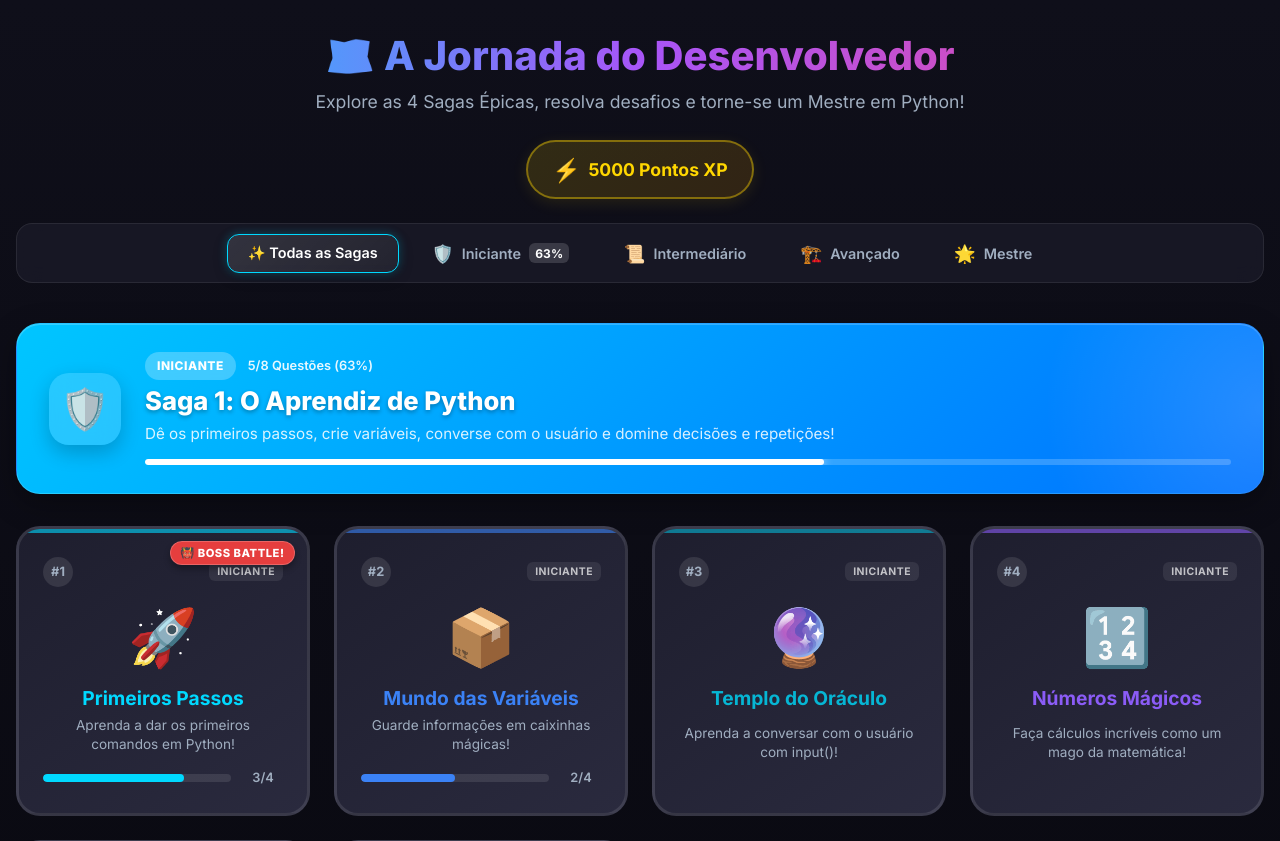
WorldMap Component › filters worlds by selected saga tab
This screenshot has width=1280, height=841.
// Clica na Saga 3 (Arquiteto)
Click the tab with test id "saga-tab-saga_3" at (850, 253), box [779, 232, 921, 274]
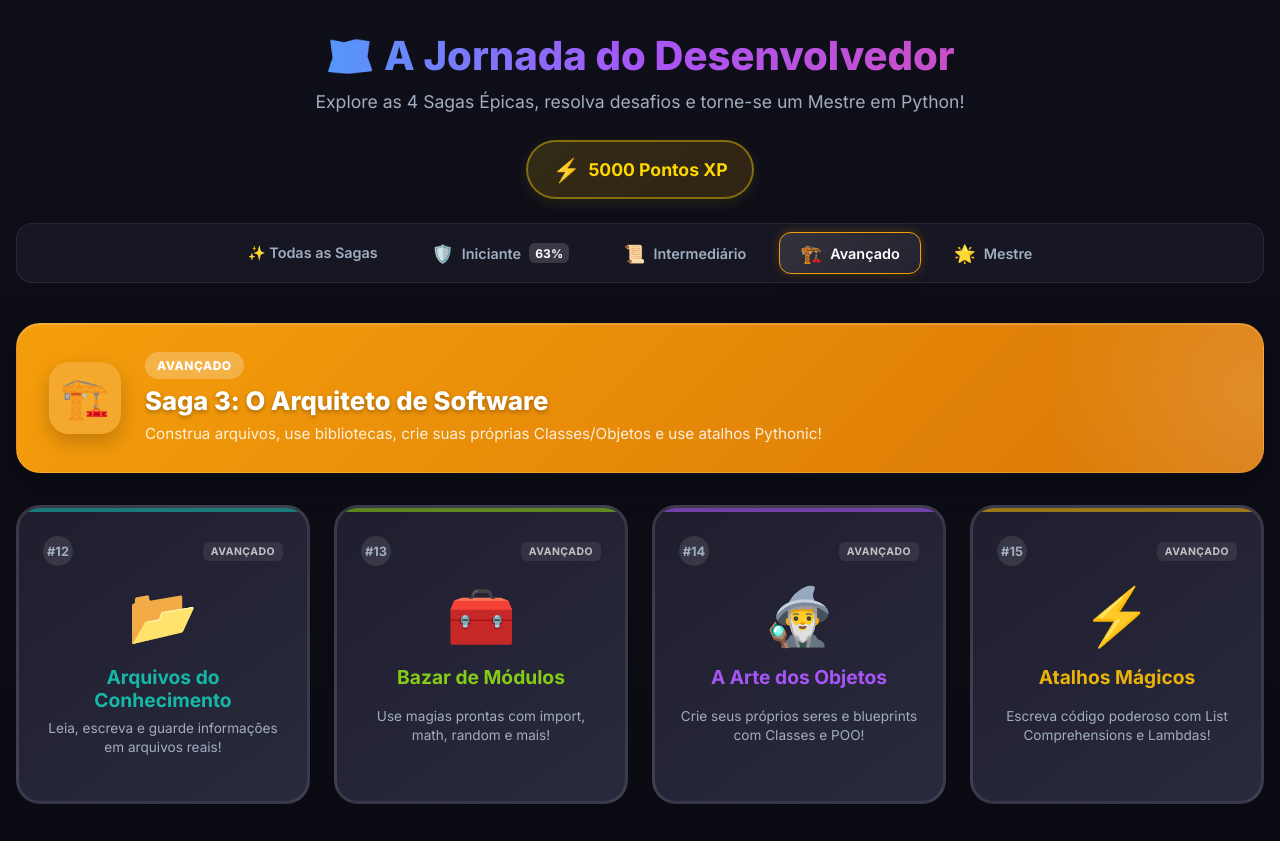
Expected: the element with test id "saga-banner-saga_3" is shown, [16, 323, 1264, 473]
Expected: the element with test id "saga-banner-saga_1" is gone
